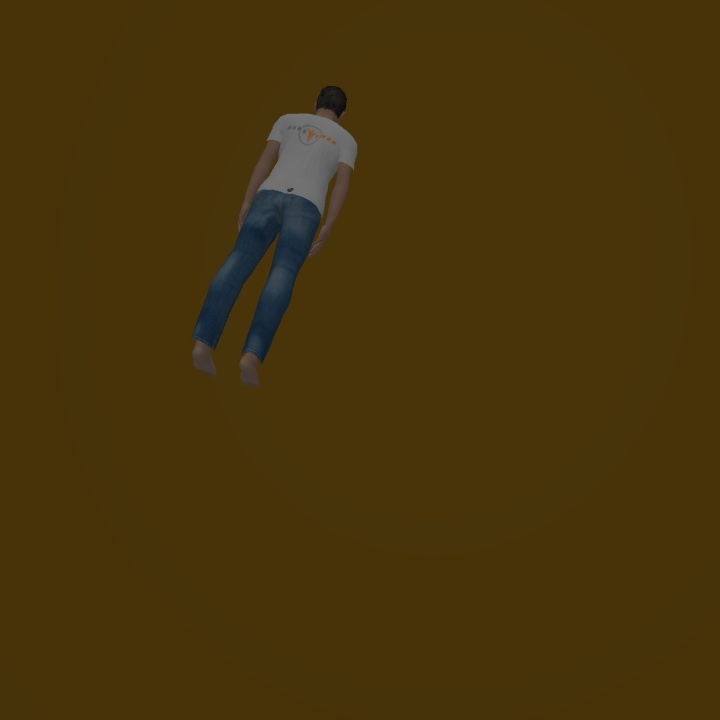victim: (190, 87, 357, 387)
